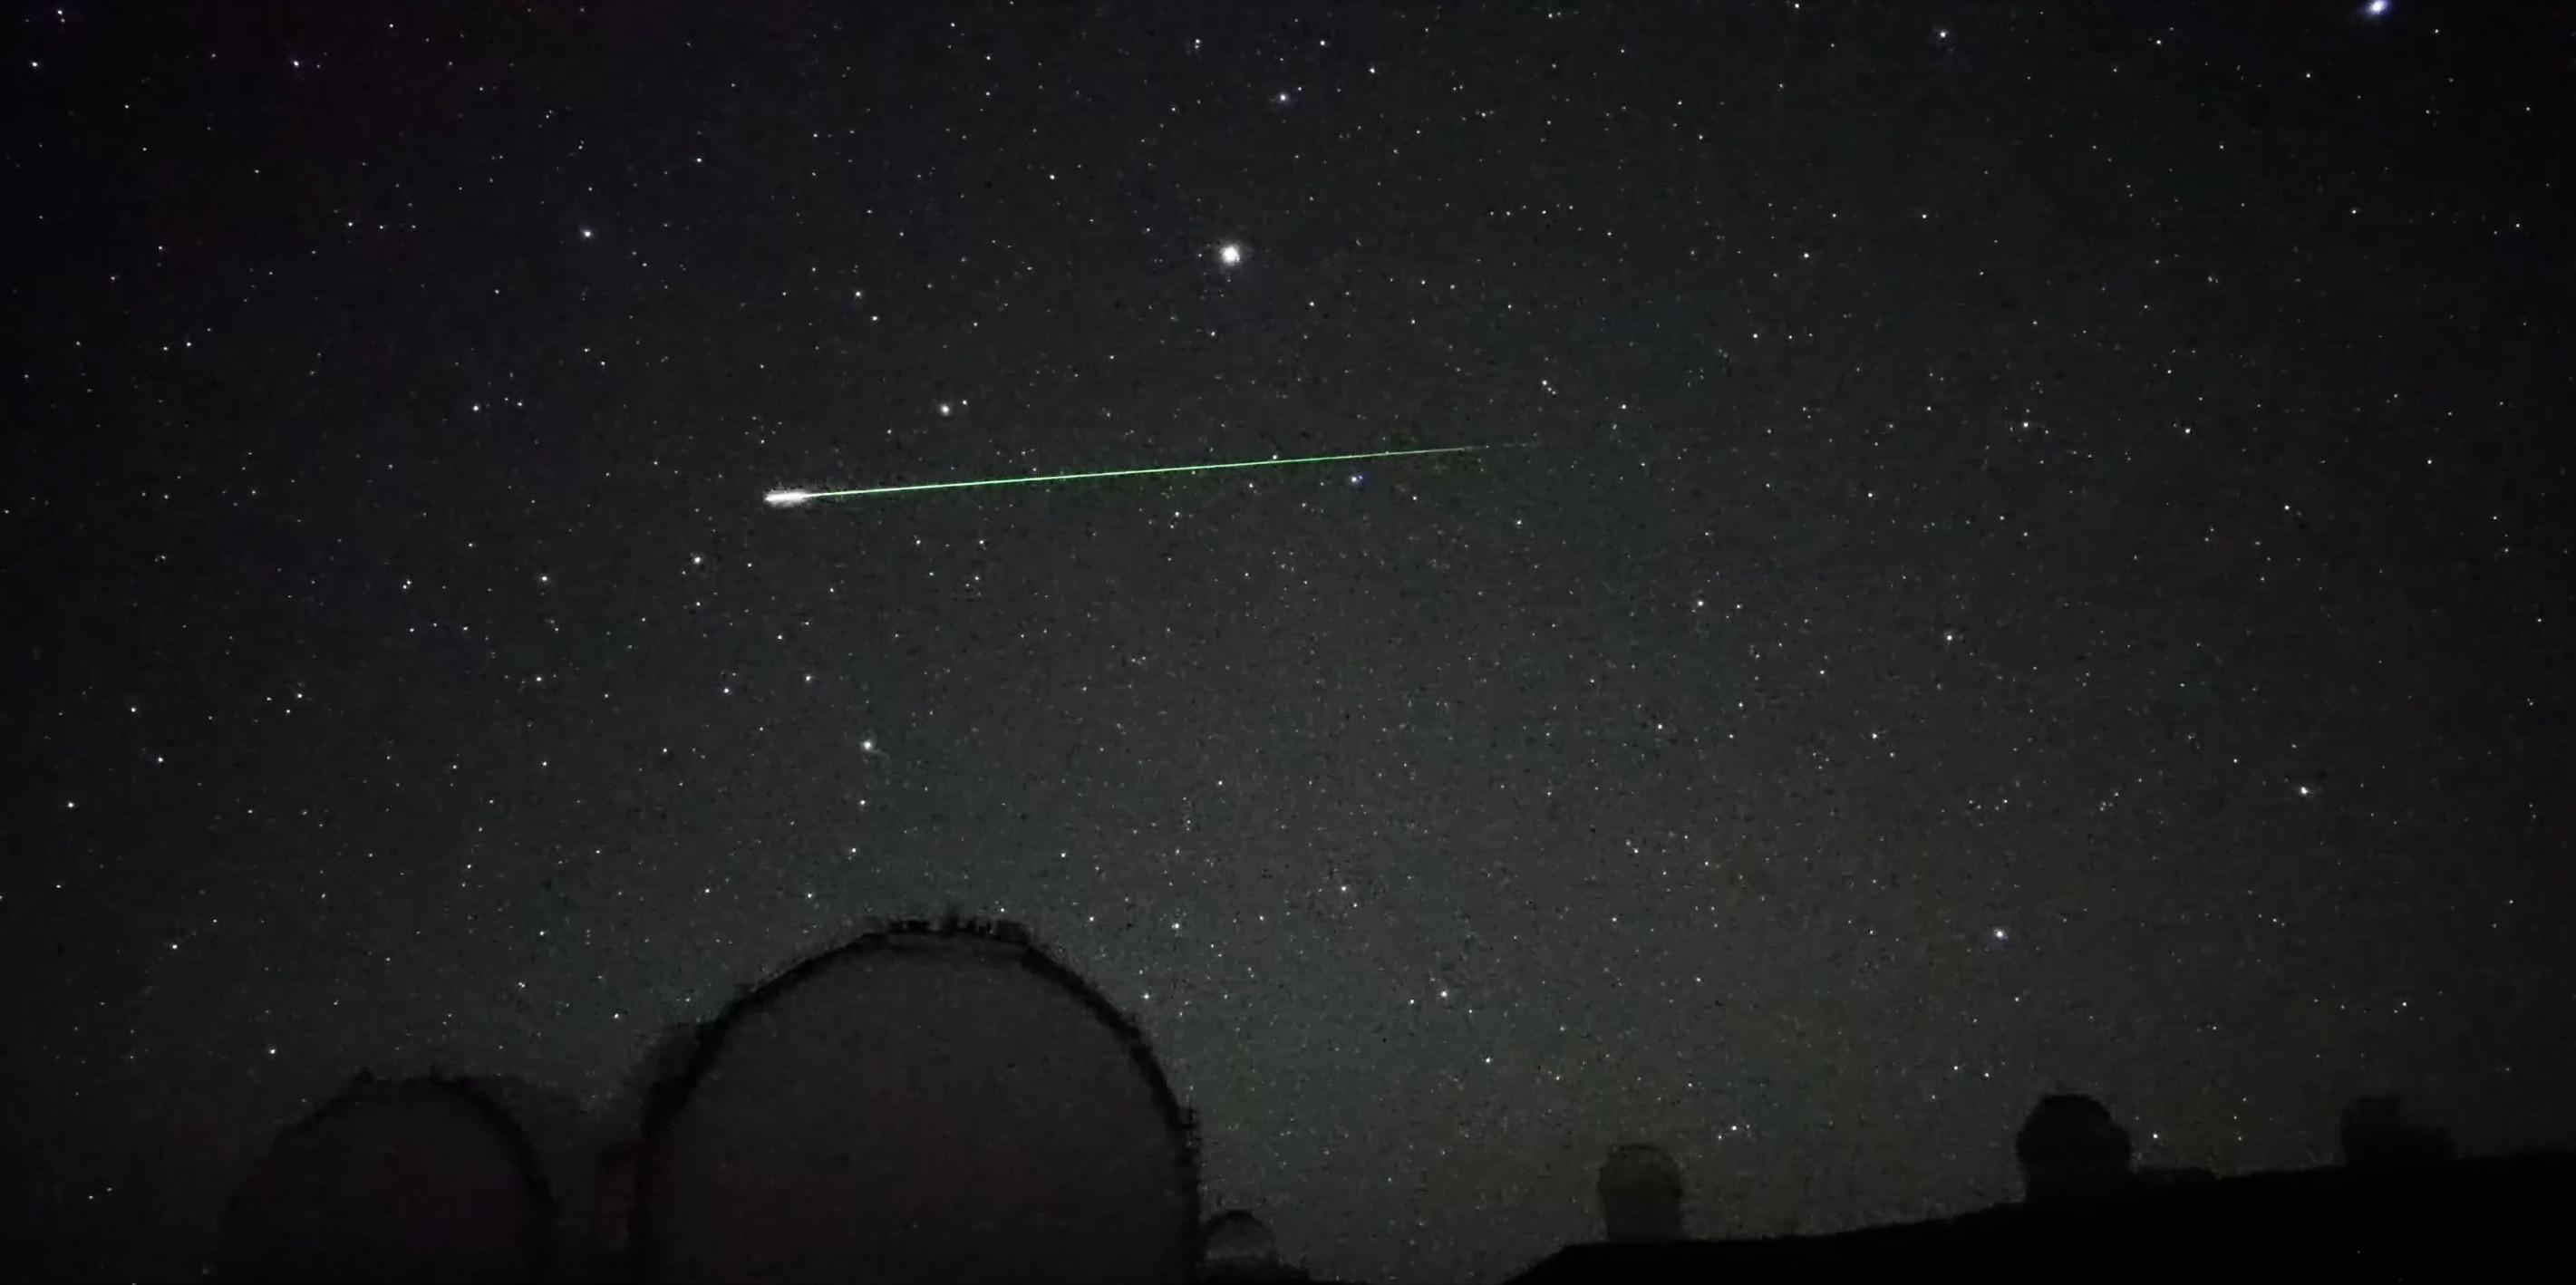meteorite: (756, 442, 1539, 506)
